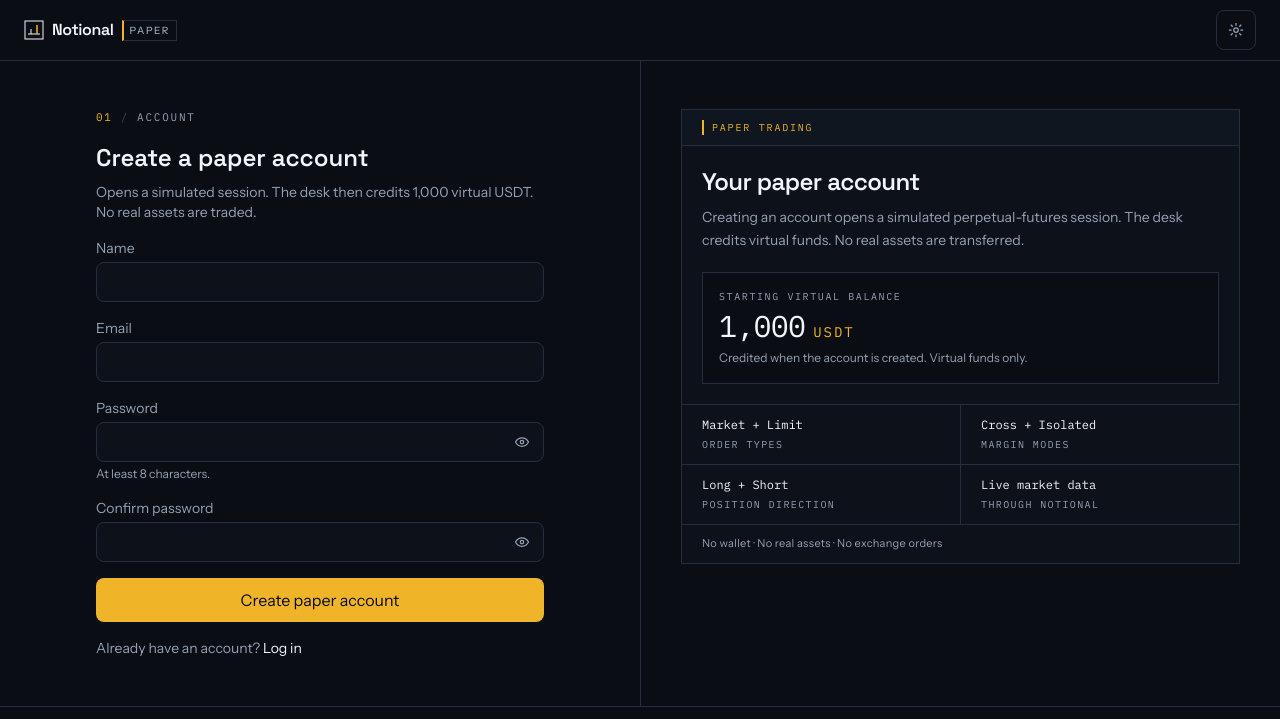
Test case: auth pages › sign up › blocks signup and shows a field error when passwords do not match
The width and height of the screenshot is (1280, 719).
Step 1. Type "Ada" into the field labelled "Name" → x=320, y=282, box x1=96 y1=262 x2=544 y2=302
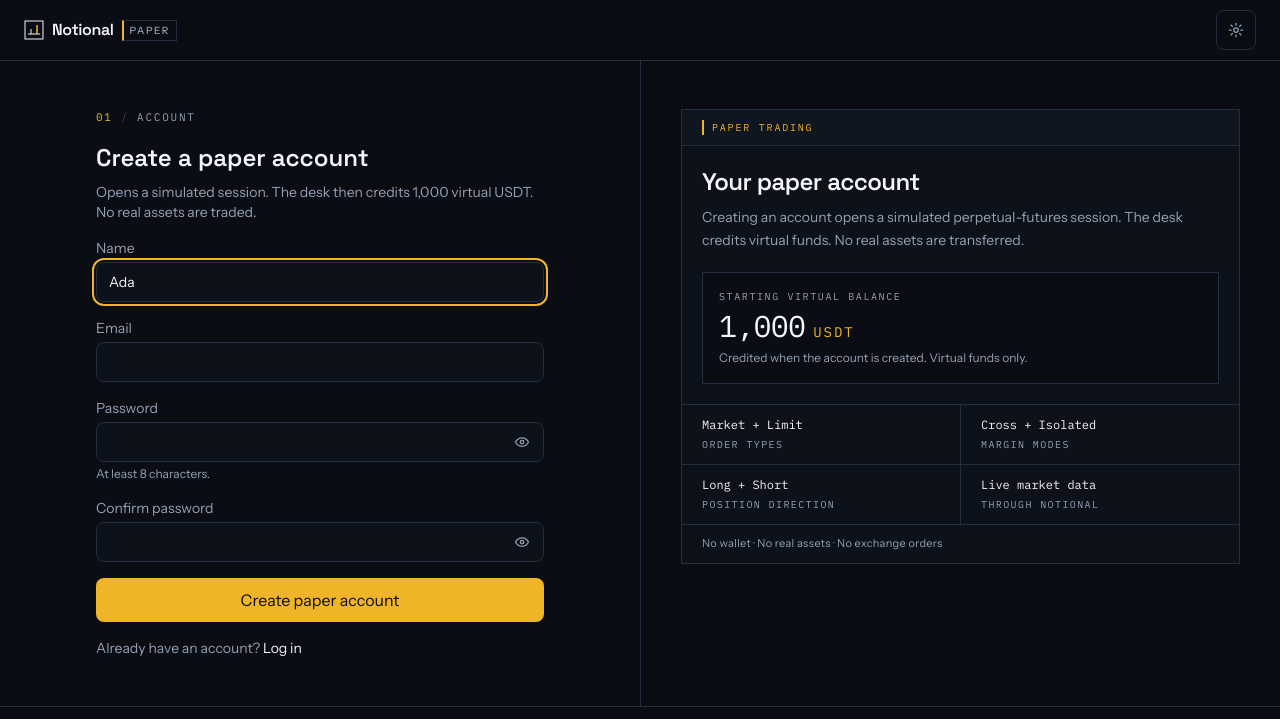
Step 2. Type "ada@example.com" into the field labelled "Email" → x=320, y=362, box x1=96 y1=342 x2=544 y2=382
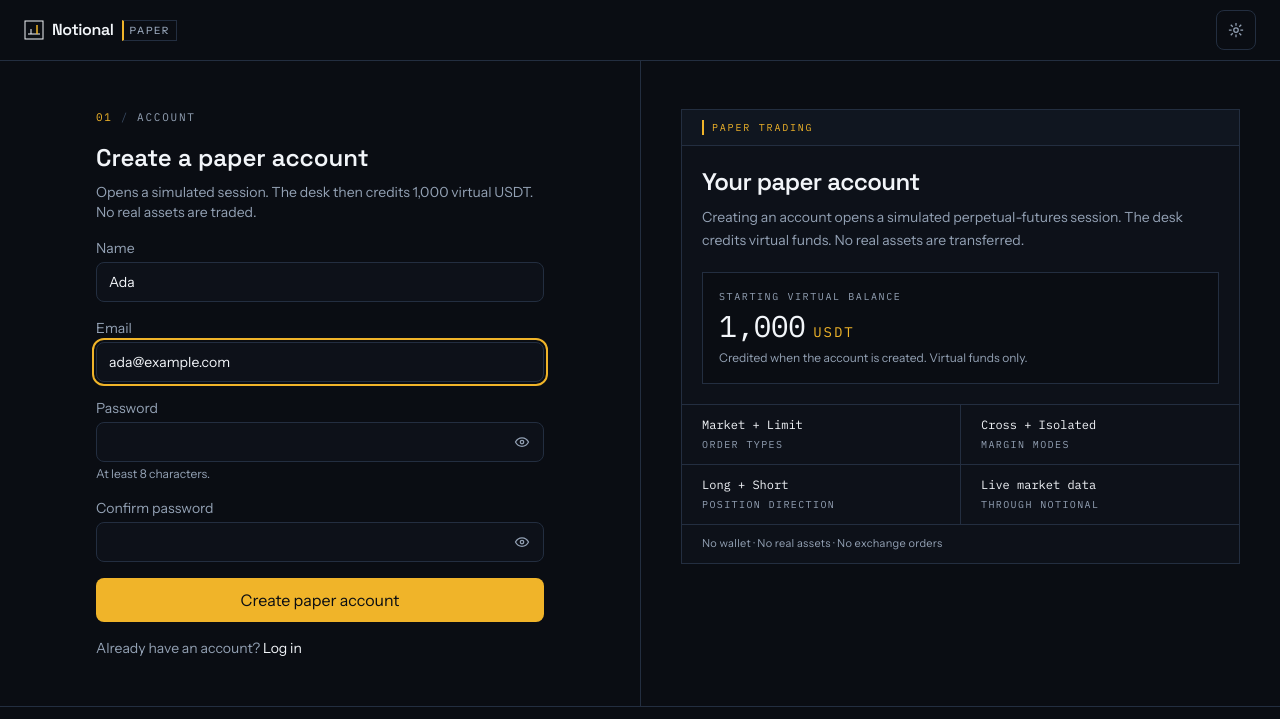
Step 3. Type "password123" into the password field labelled "Password" → x=320, y=442, box x1=96 y1=422 x2=544 y2=462
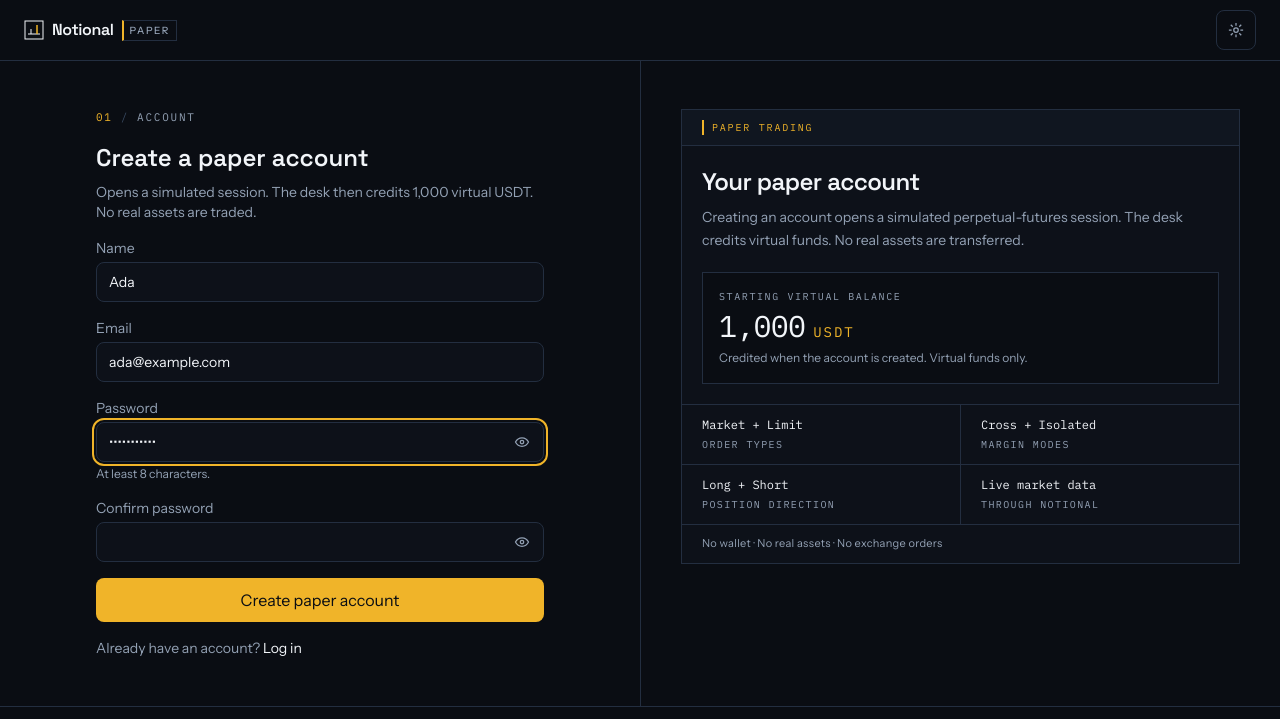
Step 4. Type "somethingElse" into the password field labelled "Confirm password" → x=320, y=542, box x1=96 y1=522 x2=544 y2=562
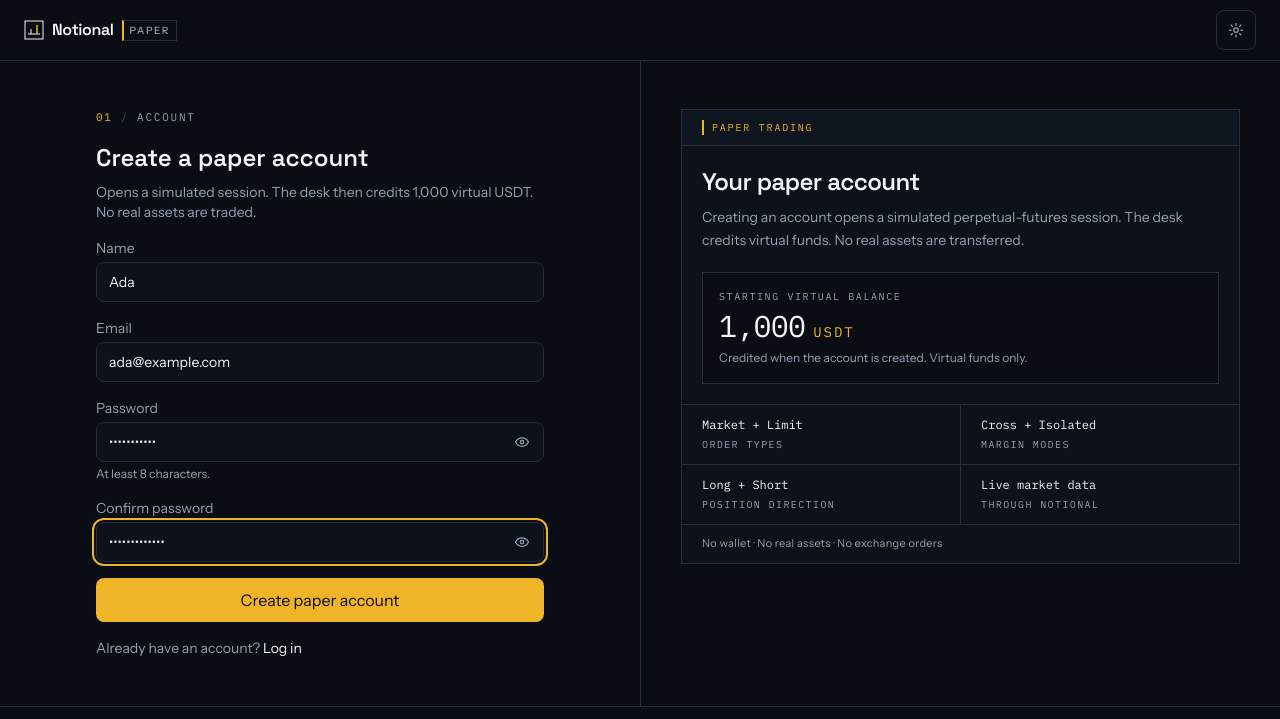
Step 5. Click the button "Create paper account" → x=320, y=600, box x1=96 y1=578 x2=544 y2=622
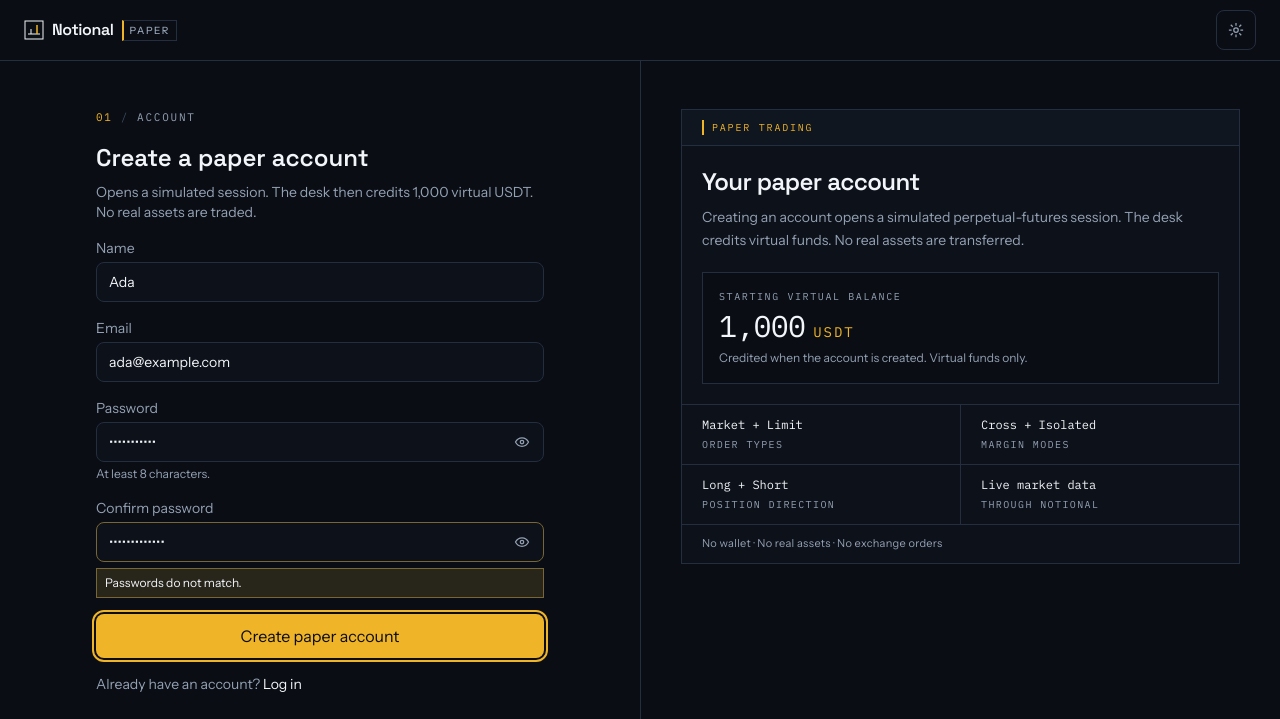
Step 6. Type "password123" into the password field labelled "Confirm password" → x=320, y=542, box x1=96 y1=522 x2=544 y2=562
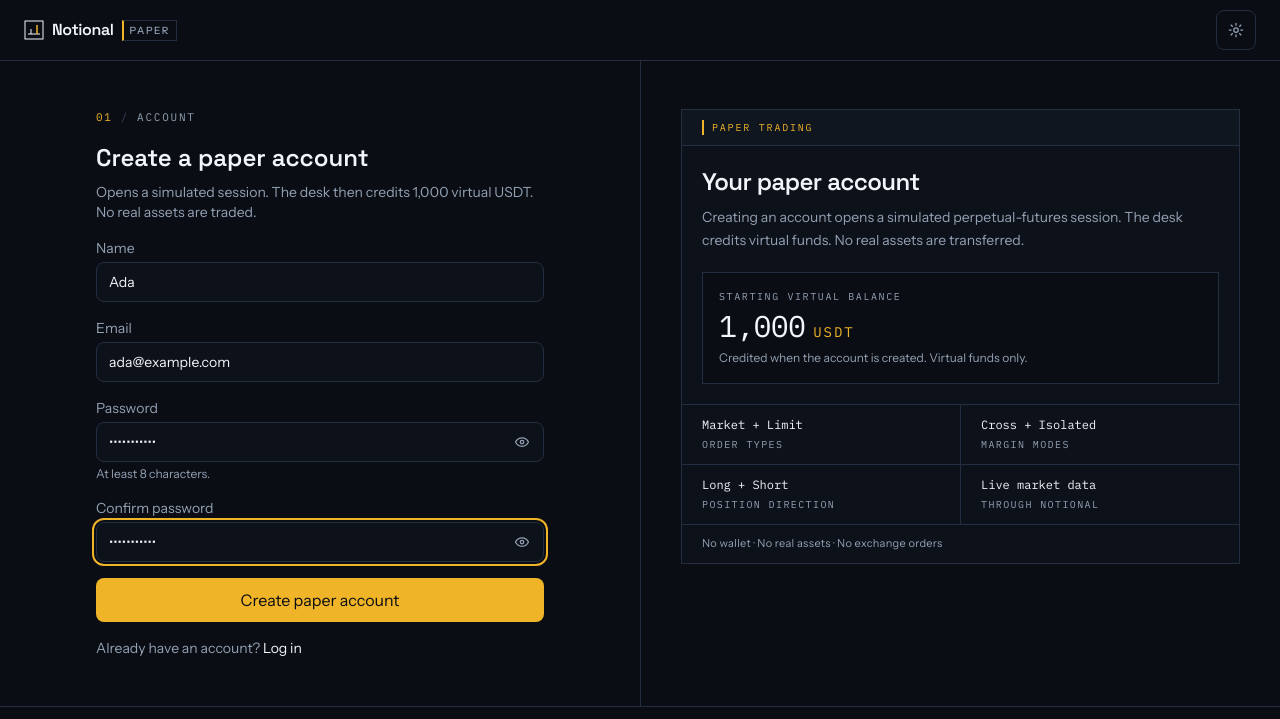
Check: the text "Passwords do not match." is gone
